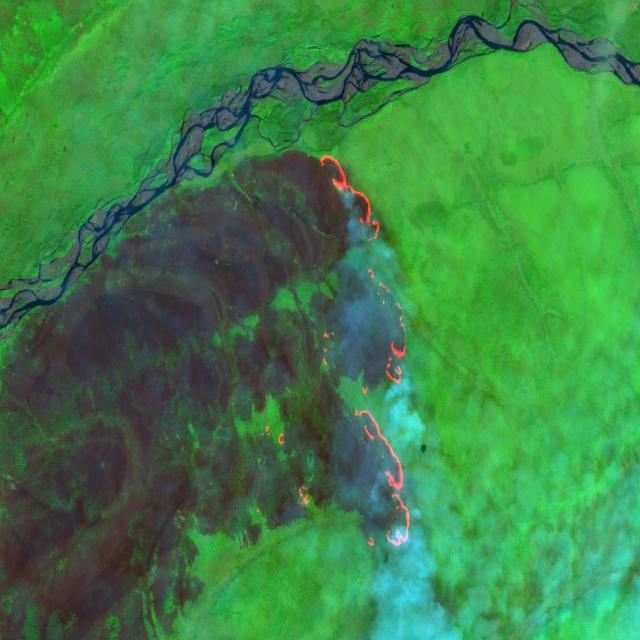fire: (318, 147, 421, 553)
